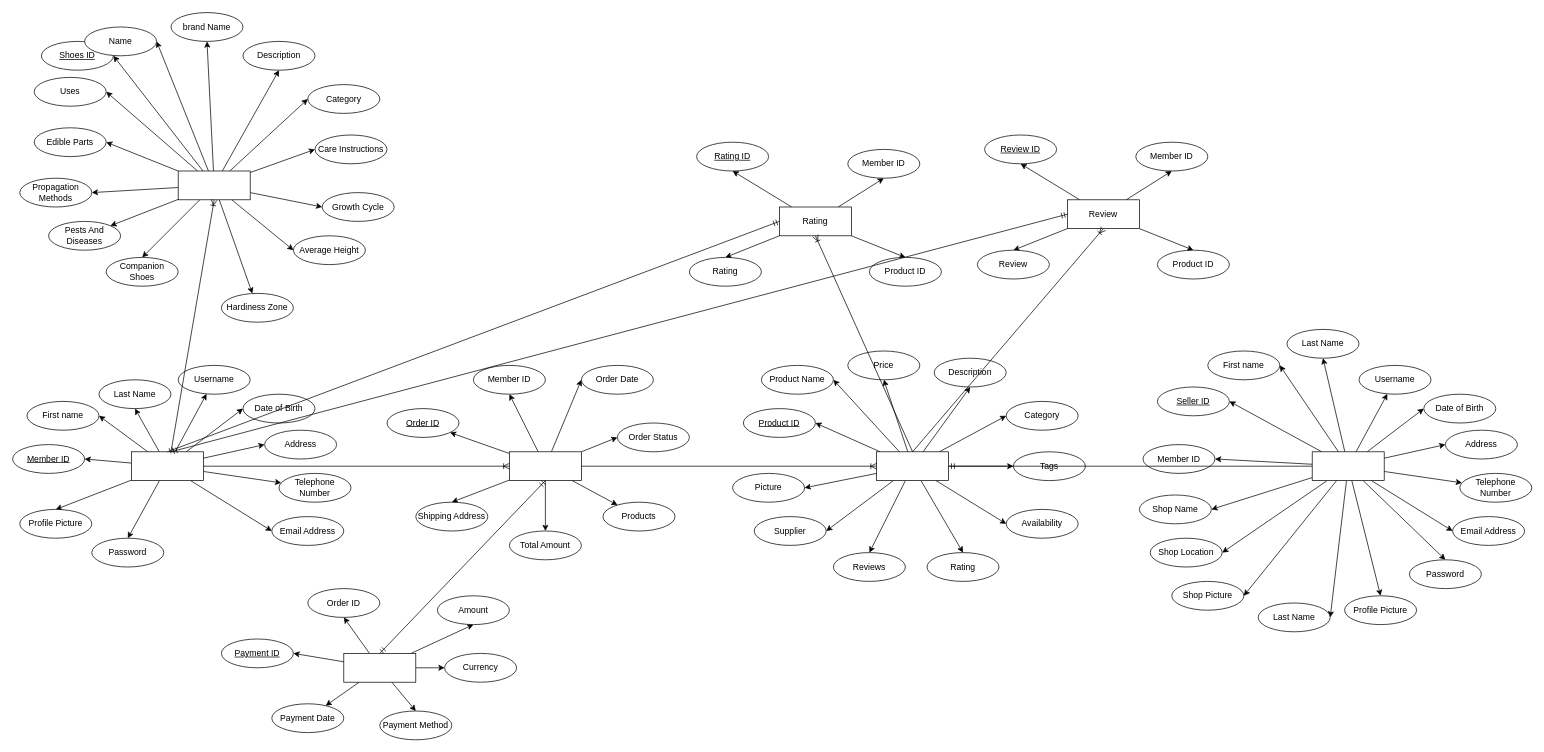
This 1544x752 diagram has some shape labels left out. The shapes that lost their labels are listed below. From the top down, each one's box as (x1, y1, x2, y2) in pixels, then its label:
(177, 170, 250, 200): Sneakers-shop
(131, 451, 203, 481): Member
(509, 451, 581, 481): Order
(876, 451, 949, 481): Product
(1311, 451, 1384, 481): Seller
(343, 653, 416, 682): Payment
